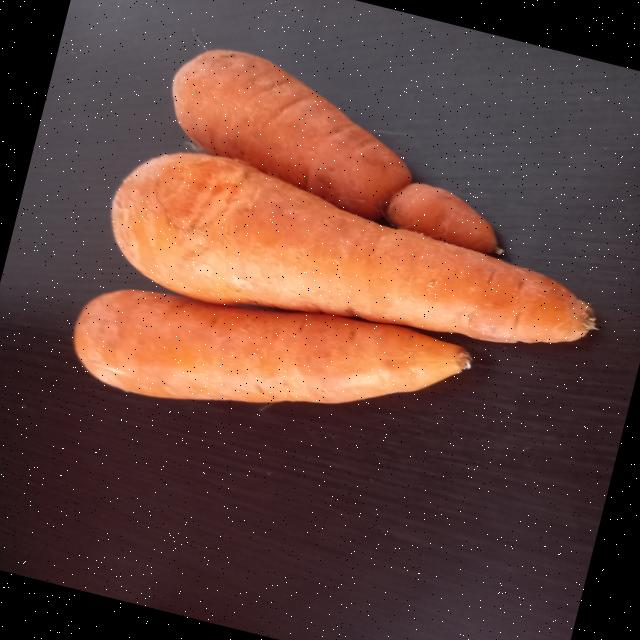carrot: (111, 152, 594, 342), (173, 49, 497, 253), (73, 288, 471, 402)
